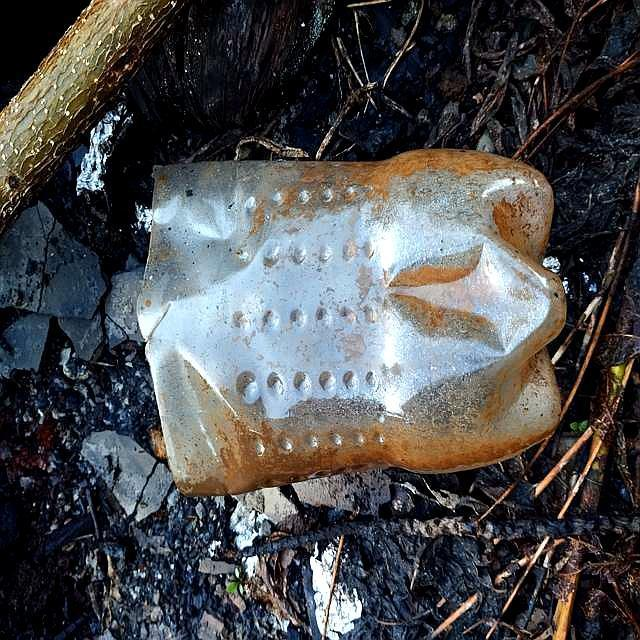Non-biodegradable: (135, 147, 570, 498)
